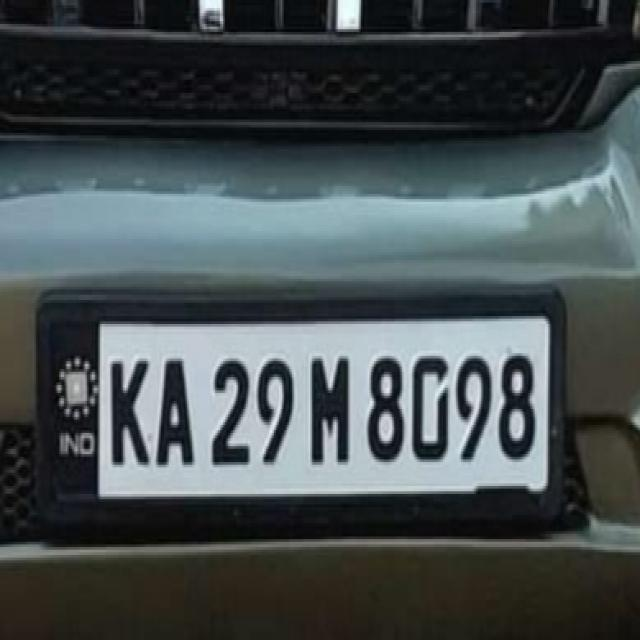0: (408, 352, 454, 472)
8: (495, 340, 543, 466), (366, 346, 408, 472)
9: (452, 352, 497, 472), (254, 356, 298, 472)
A: (153, 352, 201, 472)
K: (110, 348, 151, 472)
M: (307, 344, 352, 472)
